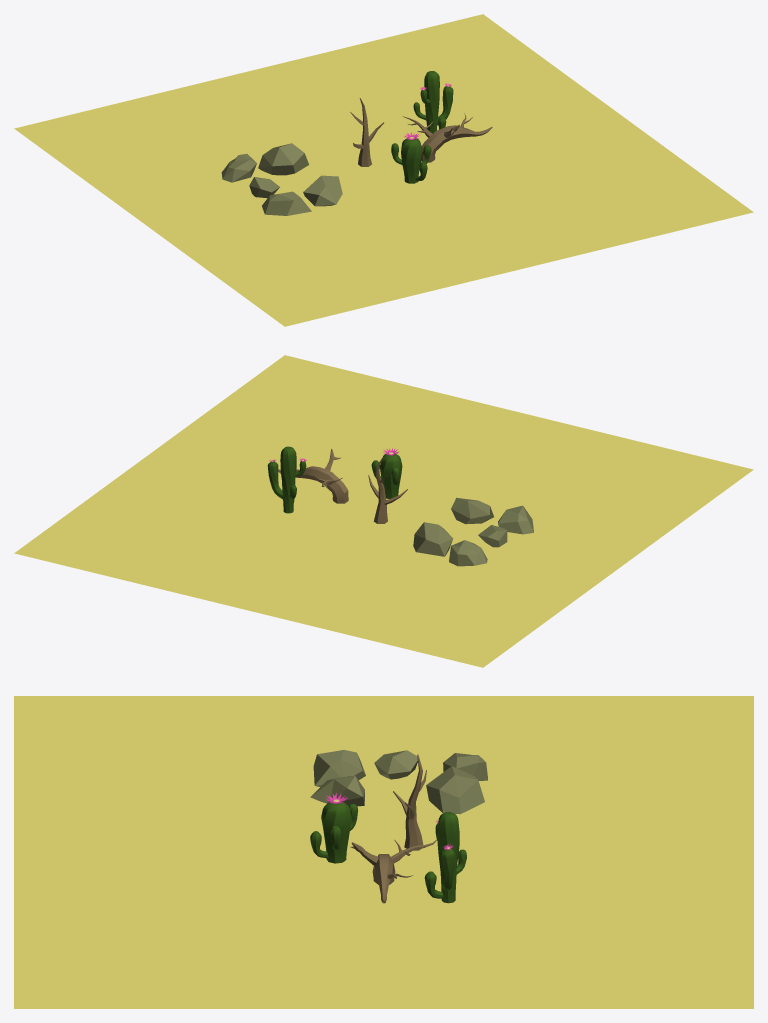
File: DesertUpdated.gltf
3 views of the same model, one above another, from view 1: azimuth 30°, elevation 25°; view 2: azimuth 150°, elevation 25°; view 3: azimuth 270°, elevation 25° (orthographic). The views are drawn at different scales.
Visible parts, largest first — view 1: Plane, Cactus2, Cactus1, Stone1, DeadTree1, Stone2, Stone3, Stone5, DeadTree2; view 2: Plane, Cactus2, Stone1, DeadTree1, Cactus1, Stone2, Stone5, Stone3, DeadTree2; view 3: Plane, Cactus2, Cactus1, Stone1, Stone3, DeadTree1, Stone2, DeadTree2, Stone4, Stone5.
Part boxes in pixels (bbox=[...]): Plane: bbox=[14, 14, 753, 326]; Cactus2: bbox=[413, 71, 453, 133]; Cactus1: bbox=[391, 132, 431, 183]; Stone1: bbox=[258, 143, 308, 175]; DeadTree1: bbox=[402, 113, 492, 162]; Stone2: bbox=[303, 175, 342, 206]; Stone3: bbox=[262, 191, 311, 215]; Stone5: bbox=[221, 153, 256, 182]; DeadTree2: bbox=[350, 98, 383, 166]; Plane: bbox=[14, 355, 753, 667]; Cactus2: bbox=[267, 446, 306, 513]; Stone1: bbox=[413, 522, 453, 556]; DeadTree1: bbox=[278, 449, 348, 503]; Cactus1: bbox=[371, 448, 402, 498]; Stone2: bbox=[451, 497, 493, 524]; Stone5: bbox=[449, 540, 487, 566]; Stone3: bbox=[498, 505, 533, 534]; DeadTree2: bbox=[368, 457, 407, 523]; Plane: bbox=[14, 696, 753, 1008]; Cactus2: bbox=[424, 812, 466, 903]; Cactus1: bbox=[310, 793, 358, 863]; Stone1: bbox=[426, 766, 484, 814]; Stone3: bbox=[313, 750, 365, 786]; DeadTree1: bbox=[350, 839, 436, 903]; Stone2: bbox=[310, 775, 364, 806]; DeadTree2: bbox=[393, 754, 426, 850]; Stone4: bbox=[374, 750, 417, 779]; Stone5: bbox=[443, 753, 487, 780].
Bounding box in the file's own units: 43.28 × 6.15 × 43.28.
